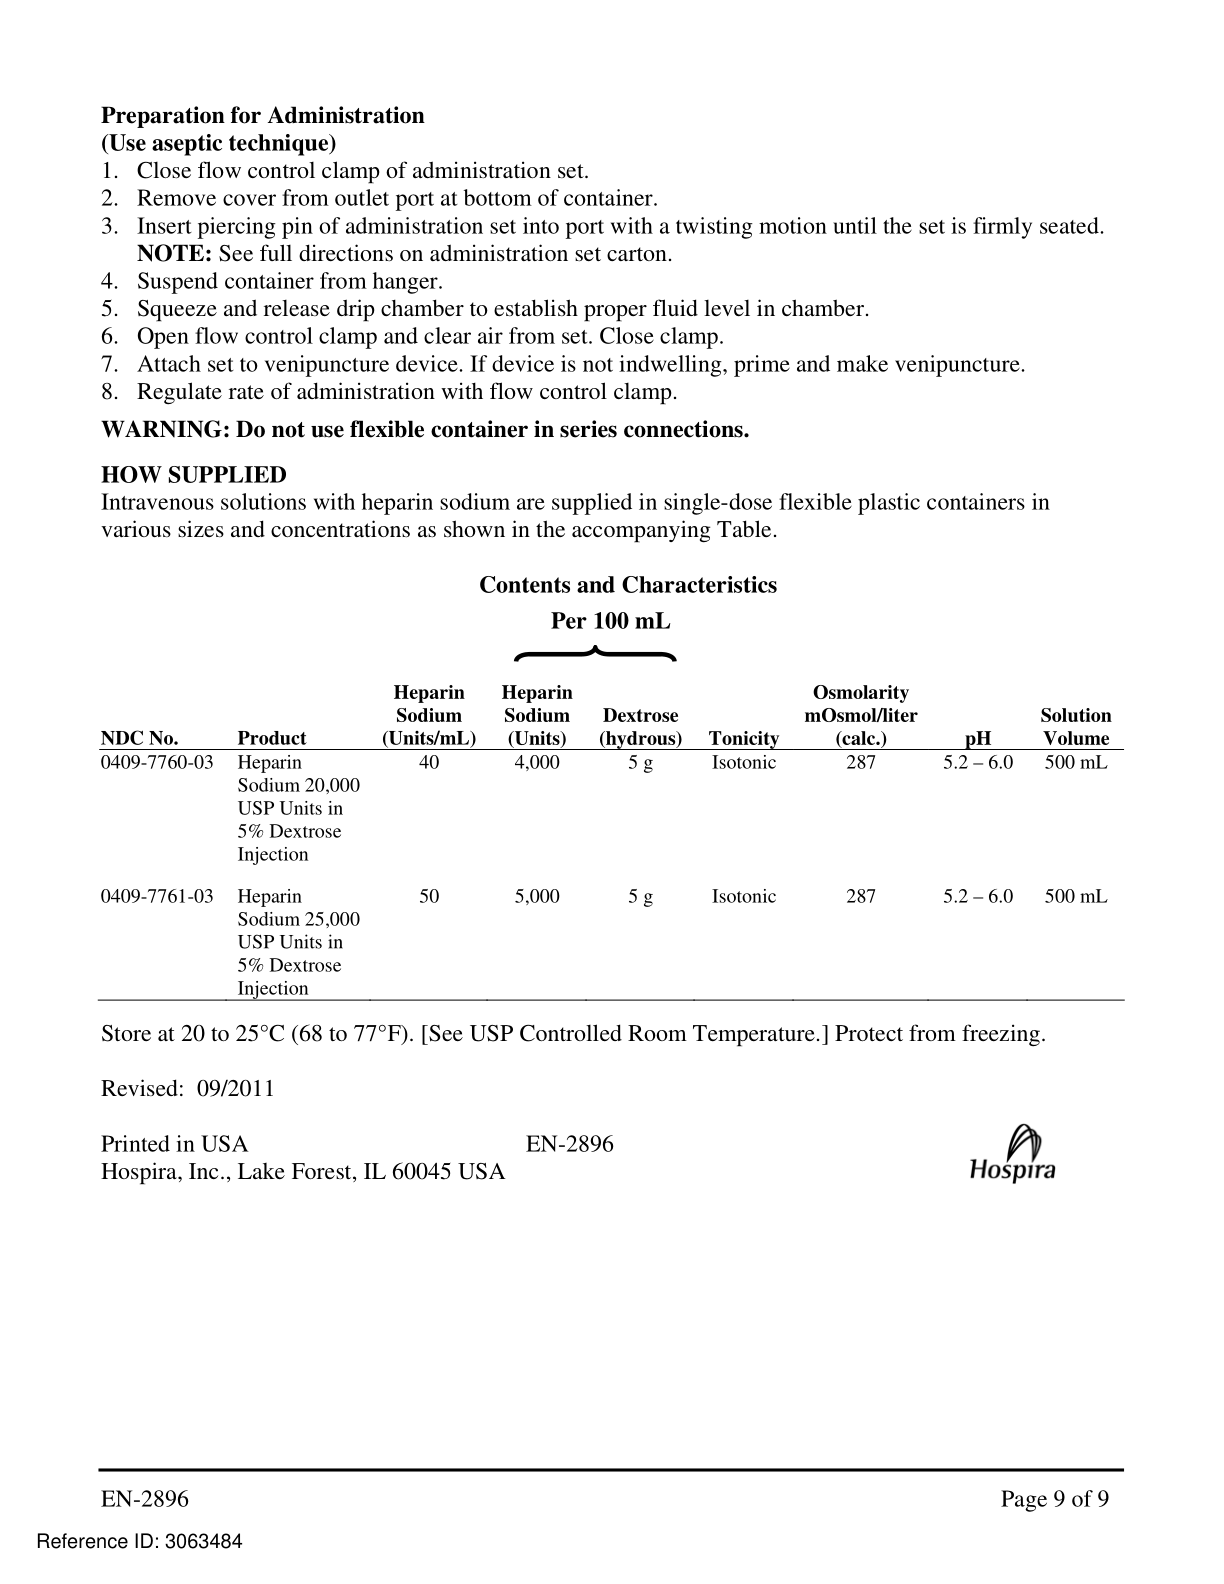partial_lined: (96, 672, 1128, 1003)
